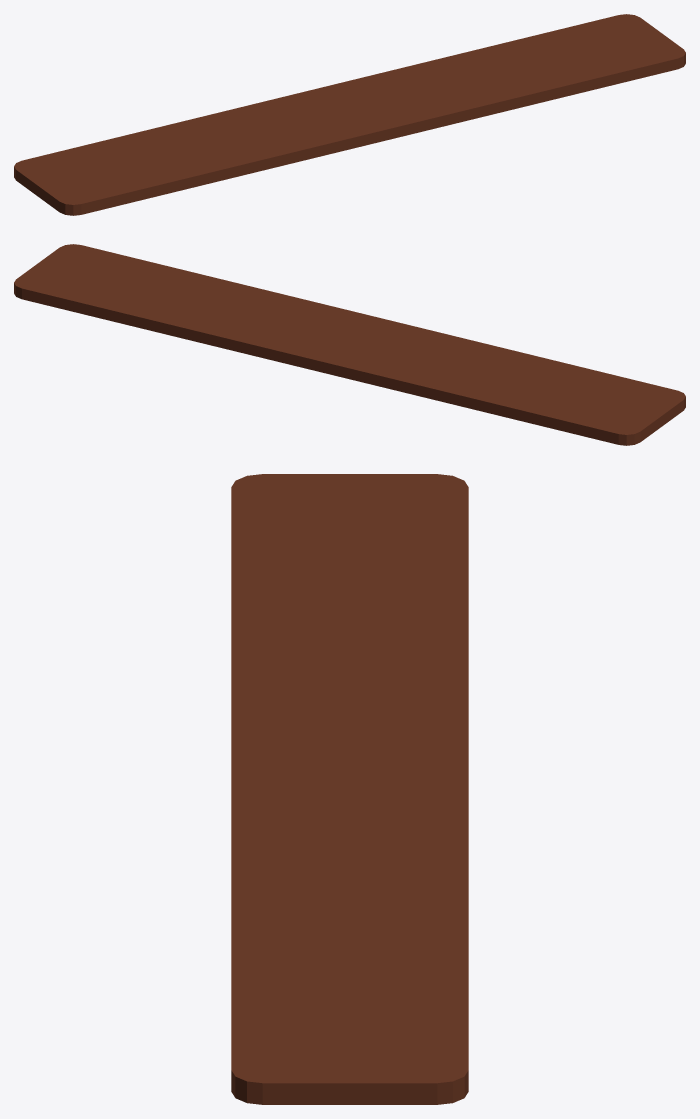
The model's file is LooseBench.fbx.
3 renders of one model, top to bottom at view 1: azimuth 30°, elevation 25°; view 2: azimuth 150°, elevation 25°; view 3: azimuth 270°, elevation 25°, orthographic. The views are drawn at different scales.
Parts seen in each view (by area): view 1: Cube.012; view 2: Cube.012; view 3: Cube.012.
Part boxes in pixels (<box>): Cube.012: <box>14,14,685,215</box>; Cube.012: <box>14,244,685,445</box>; Cube.012: <box>231,474,468,1104</box>.
Size of the model in its own units: 334 by 5.55 by 54.98.
